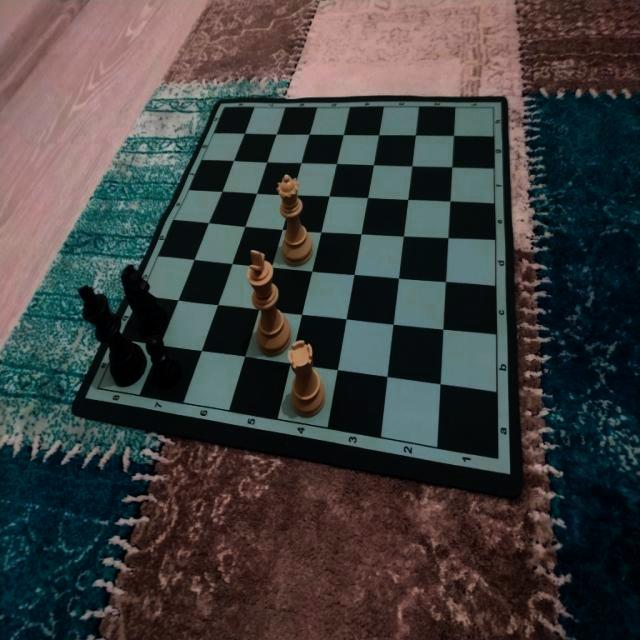chess-table-corners: (88, 374, 110, 397), (213, 98, 233, 118), (483, 97, 502, 117), (488, 446, 504, 468)
